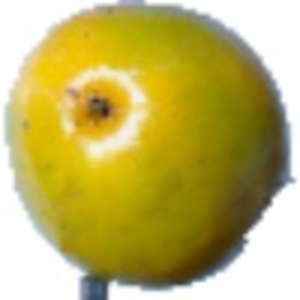maracujá: (5, 1, 297, 300)
